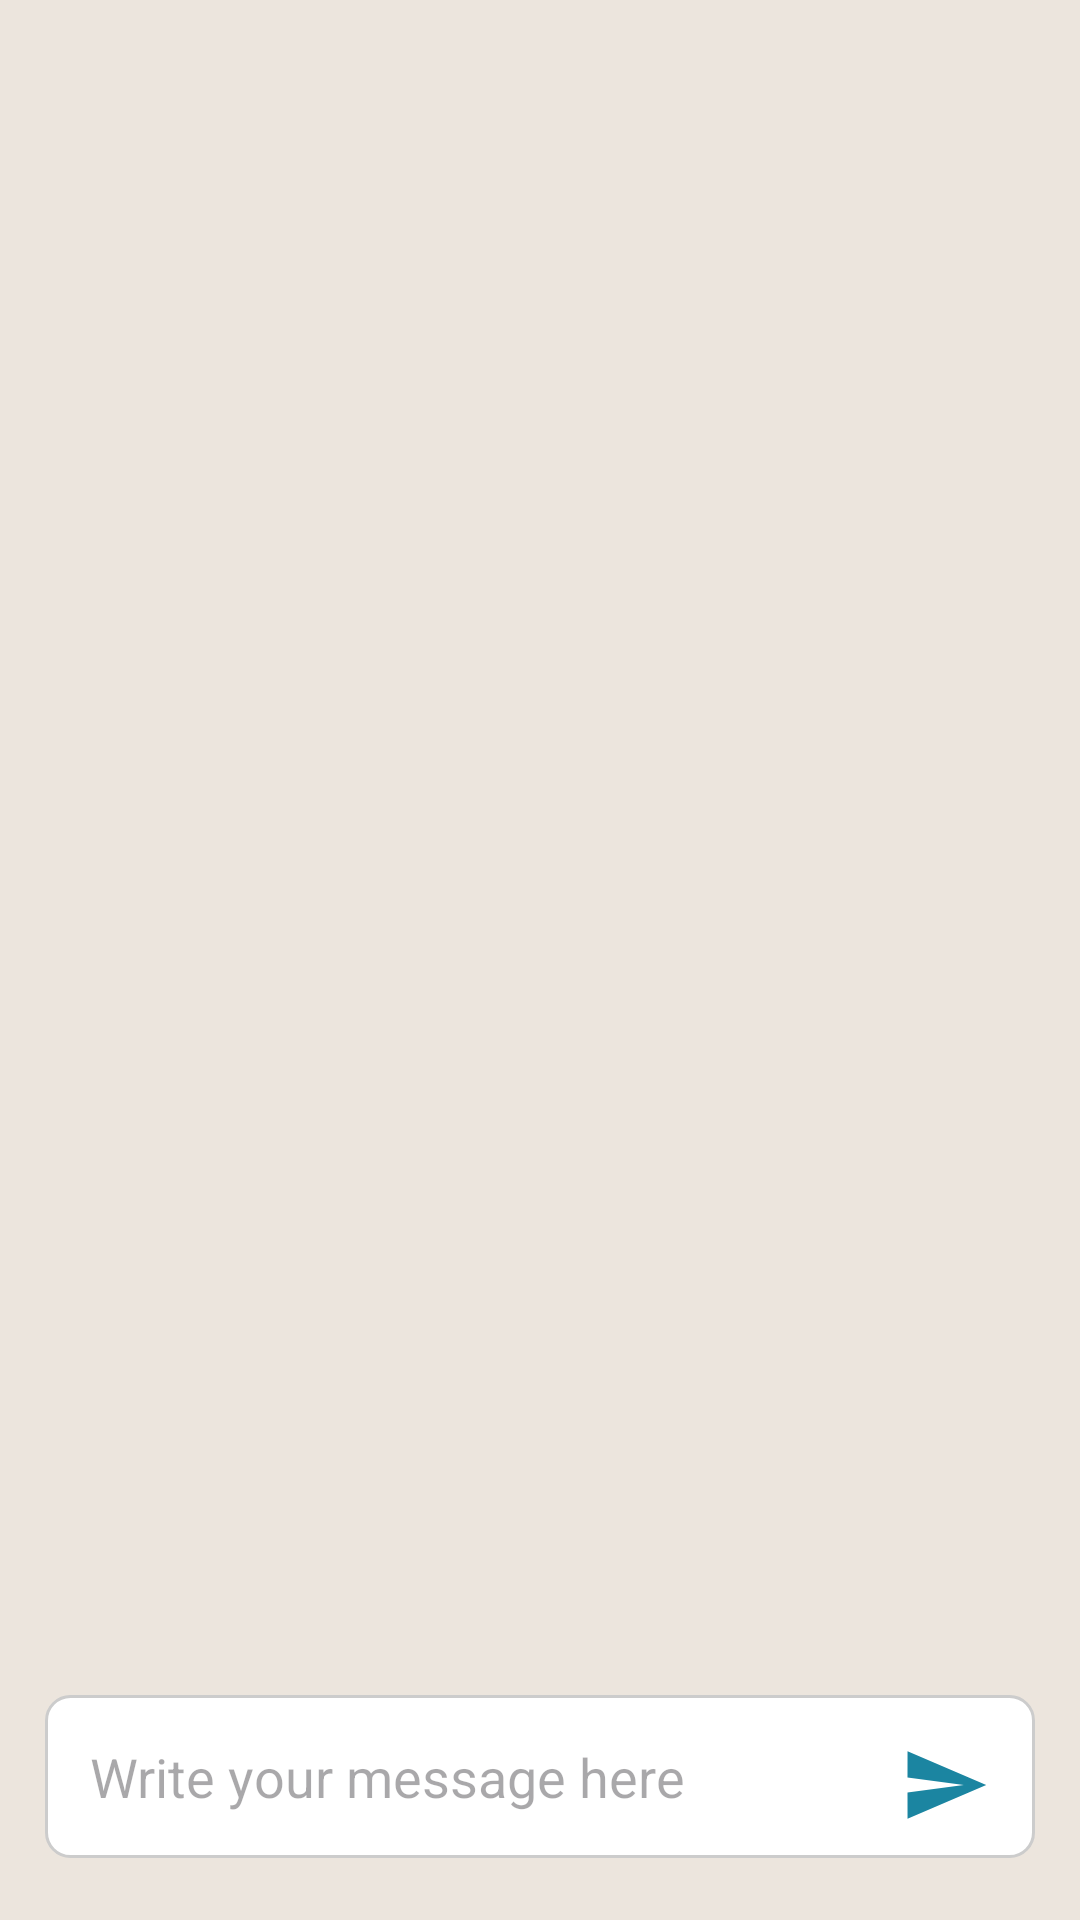

Where to tap for icons on this 1080px x 1920px app screen, as (x,y):
send: (945,1776)
